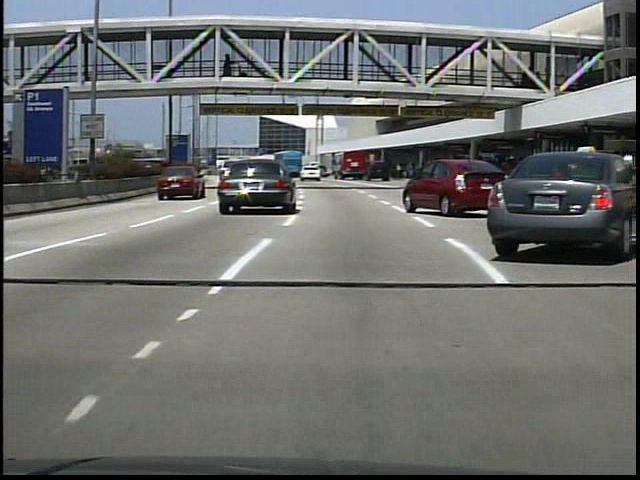person: (223, 52, 238, 81)
